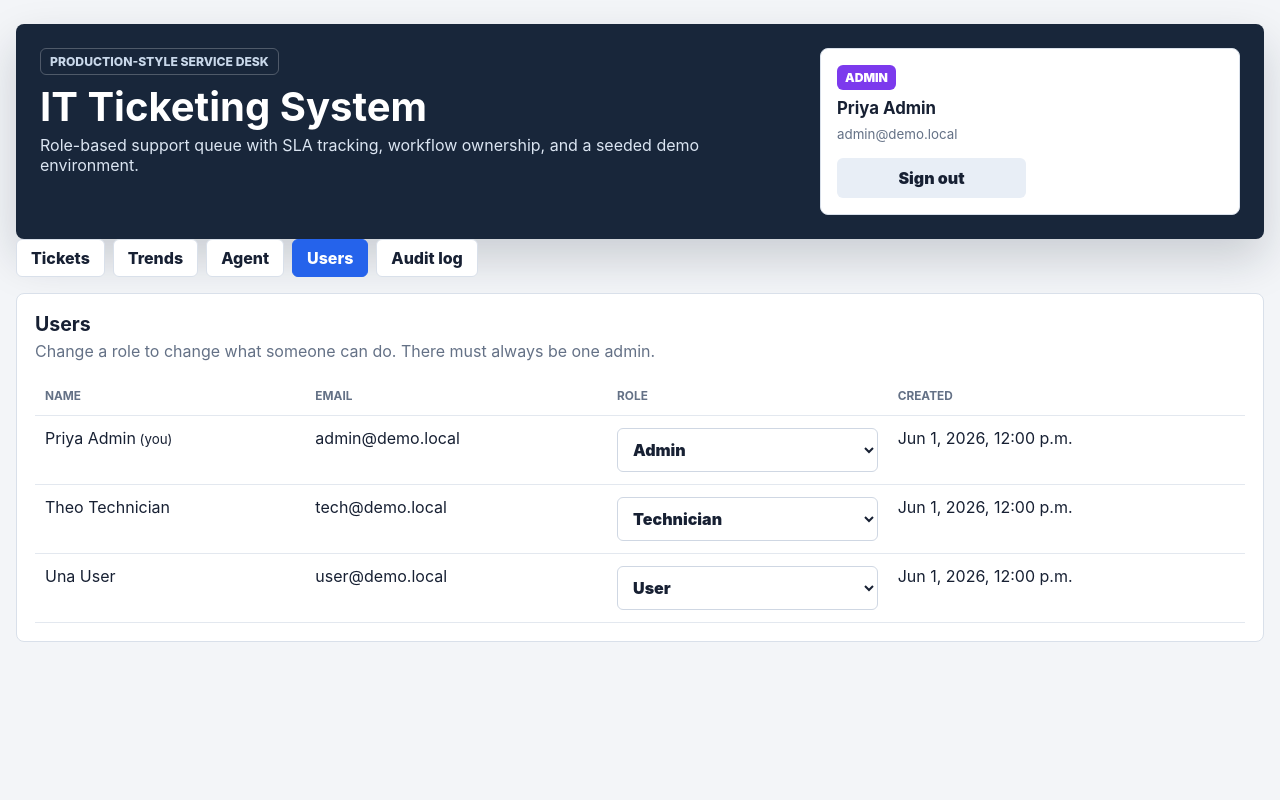
Scenario: admin: users › changes a role and confirms it
Select "Admin" in the dropdown named "Role for tech@demo.local": (747, 519) [617,497,878,541]
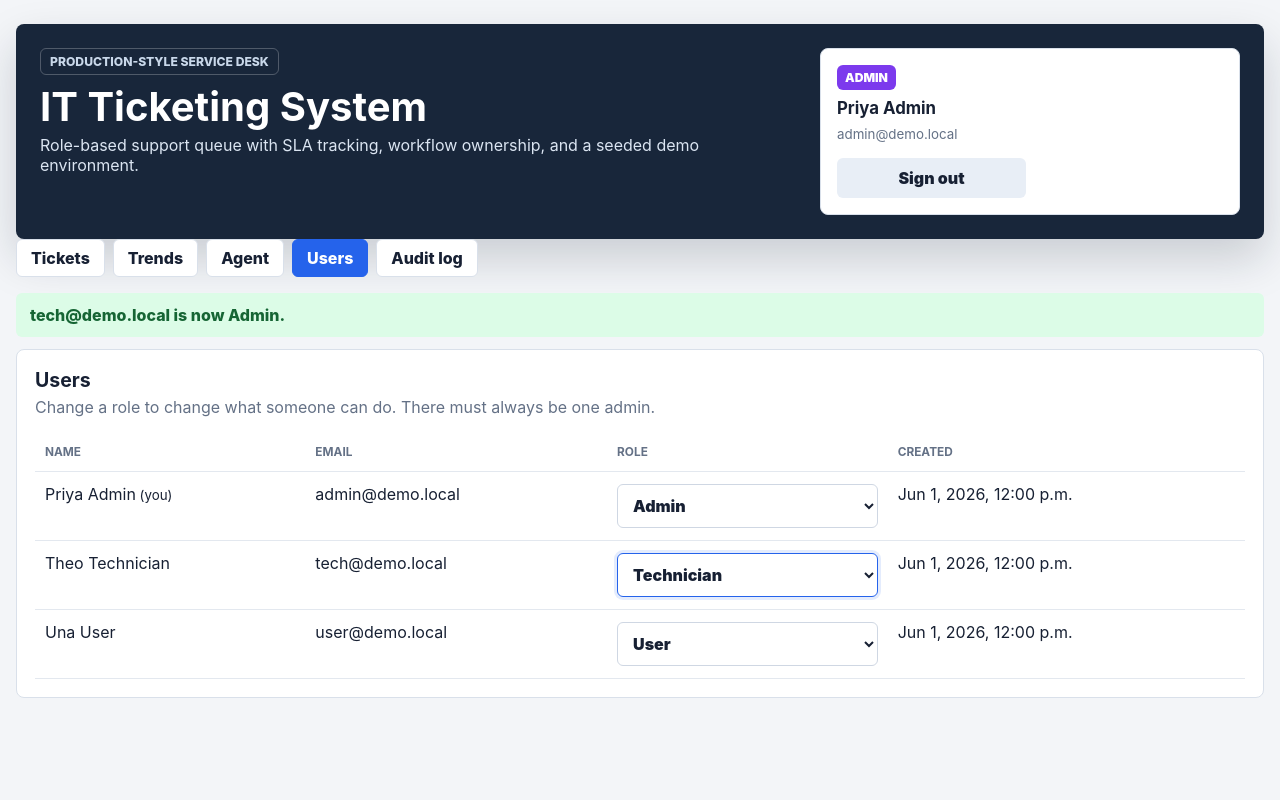
Check: the text "tech@demo.local is now Admin." is shown, box [30,305,285,325]
